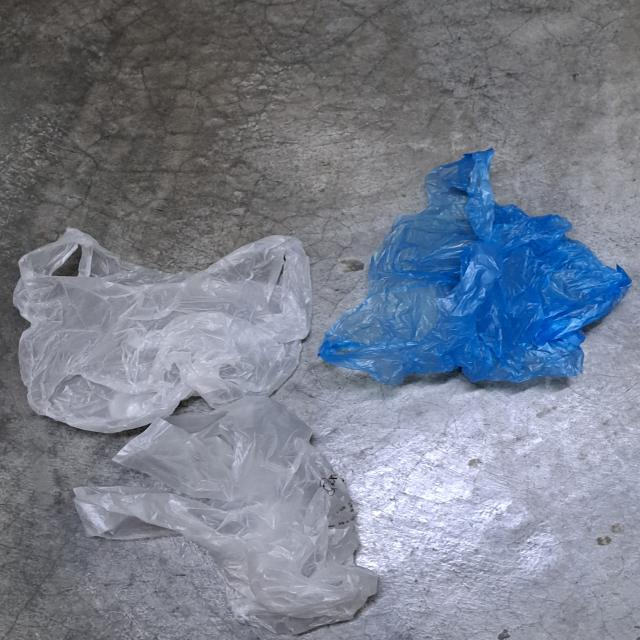plastic bag: (80, 395, 388, 628), (322, 157, 624, 389), (13, 223, 312, 431)
